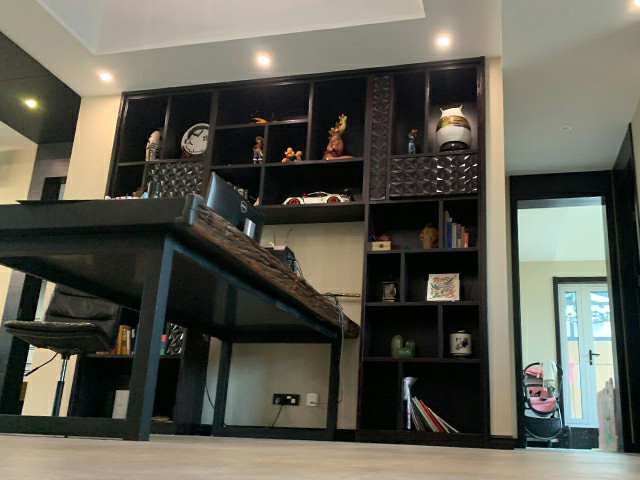cabinet: (355, 200, 491, 444), (64, 351, 212, 428)
stool: (5, 283, 123, 423)
table: (4, 199, 360, 446)
wire: (225, 394, 294, 438)
